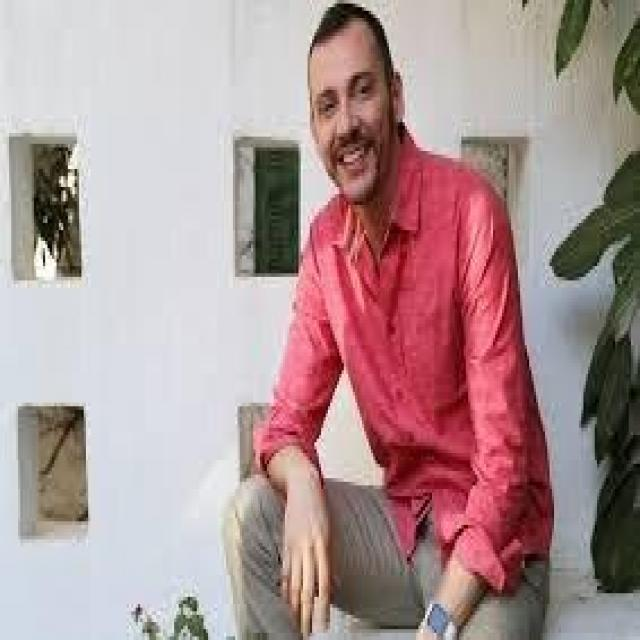person: (208, 4, 565, 636)
